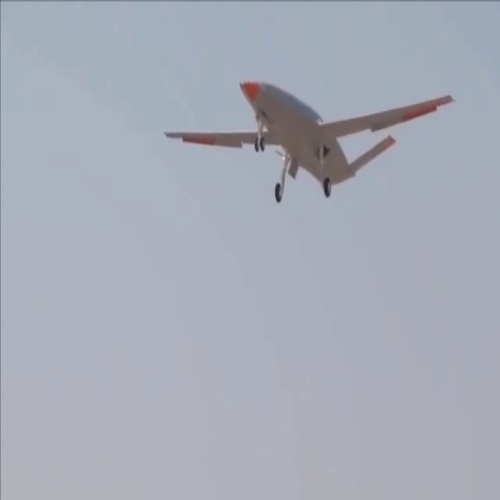uav1063: (160, 73, 457, 204)
